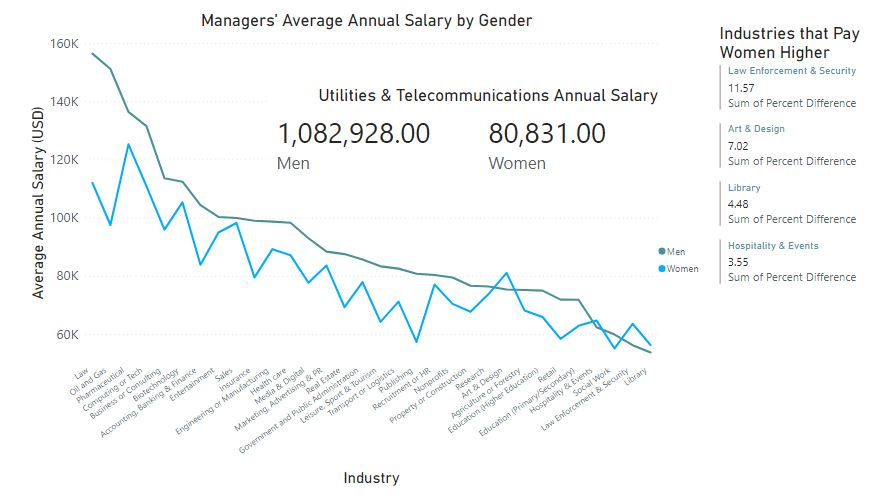

The page's visual inventory and layout, read from the dashboard file:
{"tool":"powerbi","page":{"name":"Average salary per gender","canvas":[1280,720],"ordinal":2},"visuals":[{"type":"lineChart","title":"Average Annual Salary of Men and Women per Industry","fields":{"Y":["Sum(Salary per Gender.Annual Salary (Men))","Sum(Salary per Gender.Annual Salary (Women))"],"Category":["Salary per Gender.Industry"]},"box":[40,18.3,976.7,683.3],"z":0},{"type":"multiRowCard","title":"Utilities & Telecommunications Annual Salary","fields":{"Values":["Sum(Salary per Gender.Annual Salary (Men))","Sum(Salary per Gender.Annual Salary (Women))"]},"box":[387.1,125.6,629.5,156.9],"z":1000}]}

Visuals, with their boxes in screenshot pixels (x1, y1, x2, y2), scaled from the page's 1280x720 canvas onto the 892x502 screenshot:
"Average Annual Salary of Men and Women per Industry" lineChart: Rect(28, 13, 709, 489)
"Utilities & Telecommunications Annual Salary" multiRowCard: Rect(270, 88, 708, 197)
